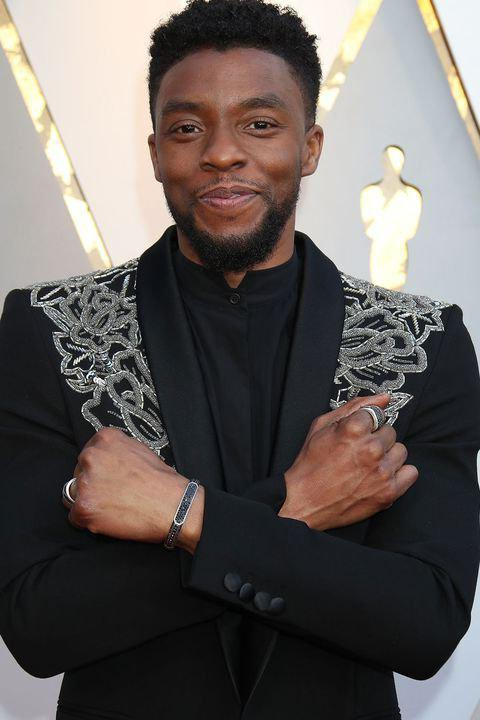Sober: (152, 59, 304, 236)
